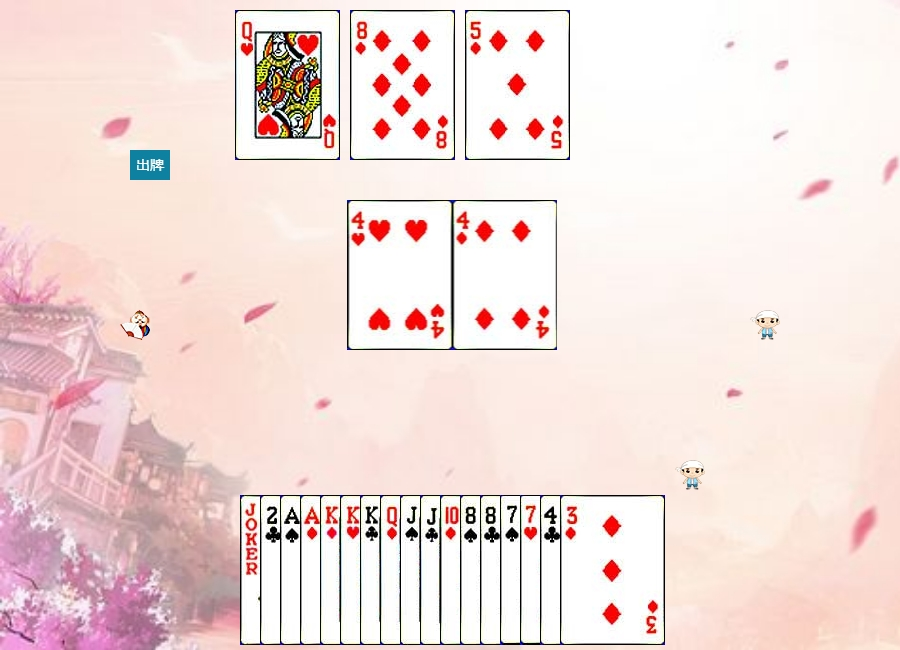10~1: (440, 495, 545, 645)
11~2: (420, 495, 525, 645)
11~4: (400, 495, 505, 645)
12~1: (380, 495, 485, 645)
12~3: (235, 10, 340, 160)
13~1: (320, 495, 425, 645)
13~2: (360, 495, 465, 645)
13~3: (340, 495, 445, 645)
14~1: (300, 495, 405, 645)
14~4: (280, 495, 385, 645)
15~2: (260, 495, 365, 645)
18~4: (240, 495, 345, 645)
3~1: (560, 495, 665, 645)
4~1: (453, 200, 558, 350)
4~2: (540, 495, 645, 645)
4~3: (348, 200, 453, 350)
5~1: (465, 10, 570, 160)
7~3: (520, 495, 625, 645)
7~4: (500, 495, 605, 645)
8~1: (350, 10, 455, 160)
8~2: (480, 495, 585, 645)
8~4: (460, 495, 565, 645)
